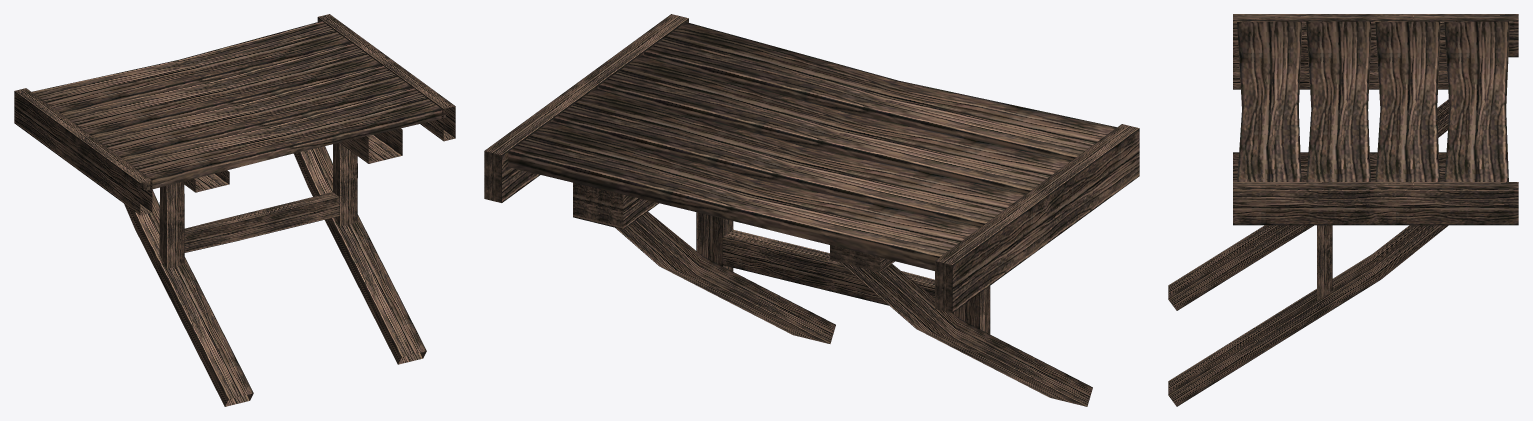
File: CB_LOOKOUT_PLATFORM01.fbx
3 views of the same model, side by side, from view 1: azimuth 30°, elevation 25°; view 2: azimuth 150°, elevation 25°; view 3: azimuth 270°, elevation 25° (orthographic). The views are drawn at different scales.
Visible parts, largest first — view 1: CB_LOOKOUT_PLATFORM01; view 2: CB_LOOKOUT_PLATFORM01; view 3: CB_LOOKOUT_PLATFORM01.
Boxes of the visible parts, left/top/right/bottom form: CB_LOOKOUT_PLATFORM01: left=14, top=14, right=455, bottom=406; CB_LOOKOUT_PLATFORM01: left=484, top=14, right=1139, bottom=406; CB_LOOKOUT_PLATFORM01: left=1168, top=14, right=1518, bottom=406.
Bounding box in the file's own units: 26035 × 17384 × 22089.
Materials: 1 (1 with a texture image).
